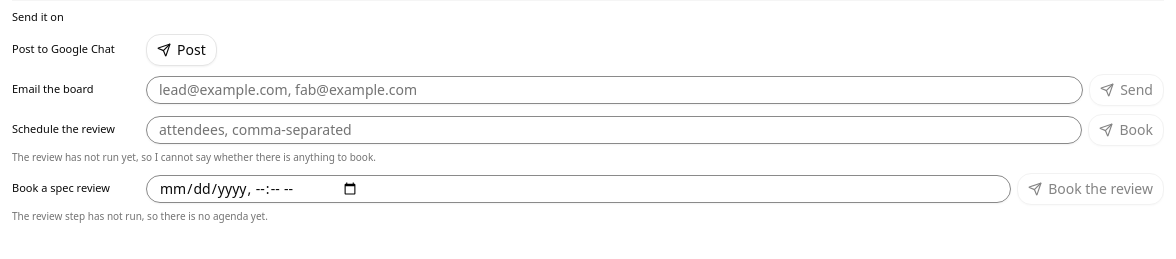
Test: DeliverPanel › shows a refused request verbatim and lets one request finish before the next
Click the button with test id "deliver-chat": (181, 50) [146,34,217,66]
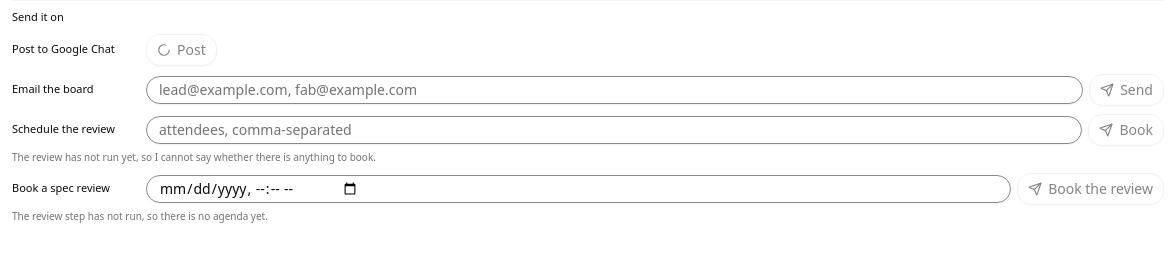
Click the button with test id "deliver-chat": (181, 50) [146,34,217,66]
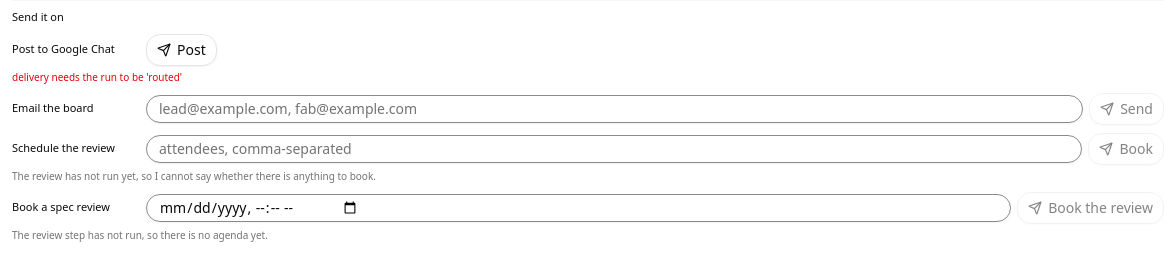
Result: the text with test id "deliver-failure" reads "delivery needs the run to be 'routed'" at [12,70,182,84]
Result: the button with test id "deliver-chat" is enabled at [146,34,217,66]
